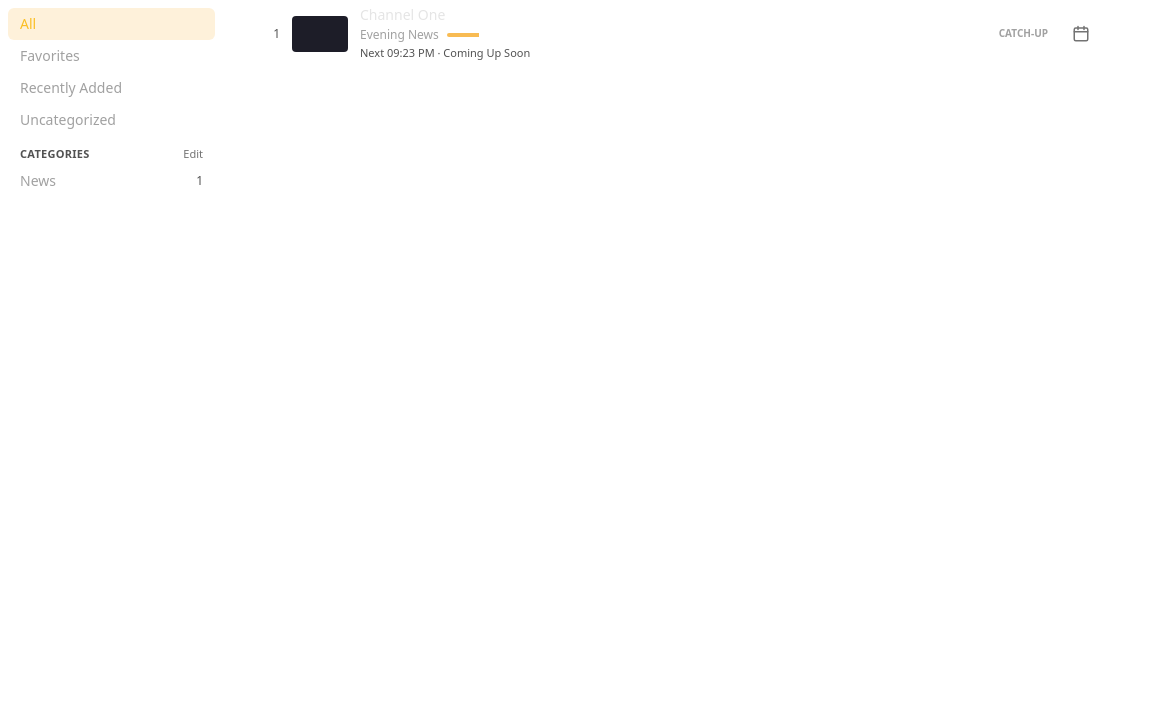
Test case: screens render with data › Live shows now + next inline and opens a channel schedule pane
Check: the text "Channel One" is shown, box x1=360 y1=5 x2=445 y2=24
Check: the text "Next 09:23 PM · Coming Up Soon" is shown, box x1=360 y1=45 x2=530 y2=60
Click the button named "Show schedule" at x=1081, y=34, box x1=1066 y1=18 x2=1096 y2=48
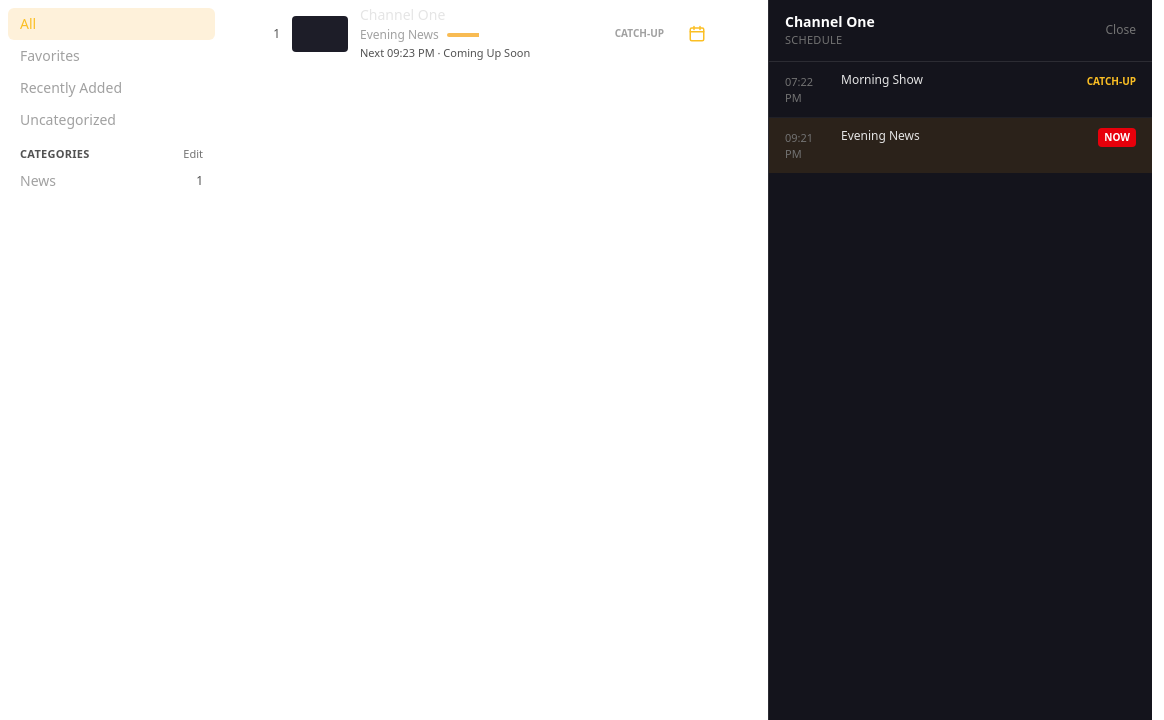
Check: the text "Morning Show" is shown, box x1=841 y1=70 x2=923 y2=88
Check: the text "Schedule" is shown, box x1=785 y1=32 x2=842 y2=47
Check: the text "Catch-up" is shown, box x1=1087 y1=72 x2=1136 y2=88
